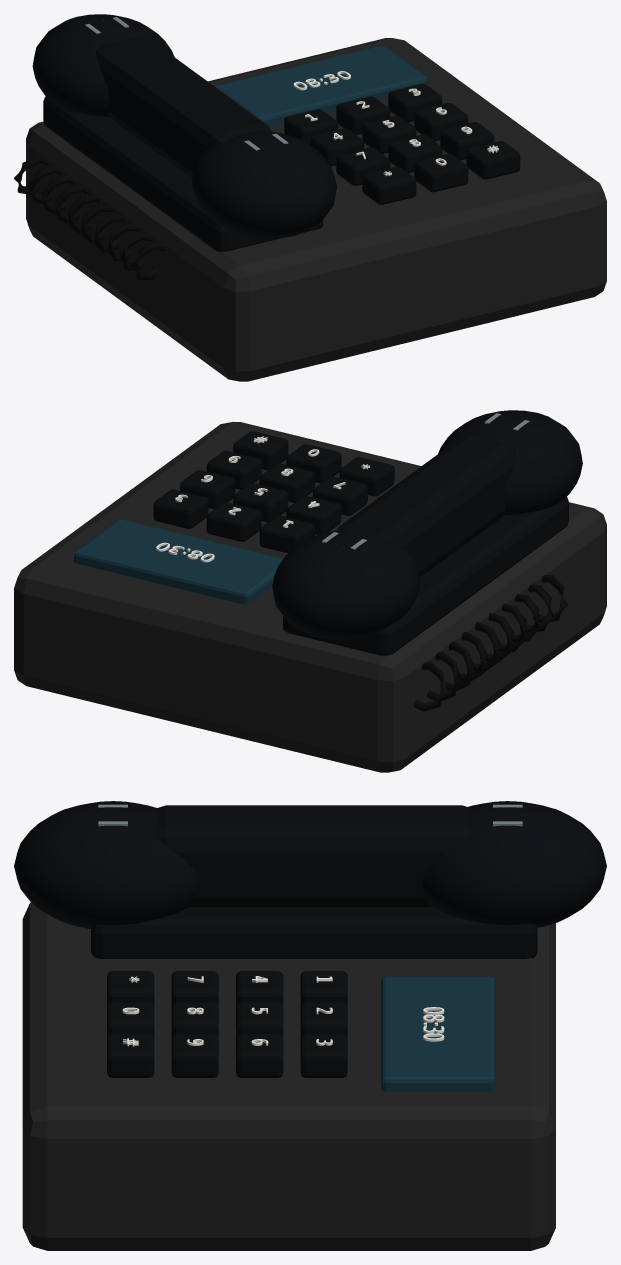
The model's file is OAA_Telepon_Meja.fbx.
3 views of the same model, one above another, from view 1: azimuth 30°, elevation 25°; view 2: azimuth 150°, elevation 25°; view 3: azimuth 270°, elevation 25° (orthographic). The views are drawn at different scales.
Parts seen in each view (by area): view 1: Body, Phone_Handset_Removable_Mesh; view 2: Body, Phone_Handset_Removable_Mesh; view 3: Body, Phone_Handset_Removable_Mesh.
Part boxes in pixels (x1,y1,x2,y2): Body: (14, 38, 606, 381); Phone_Handset_Removable_Mesh: (32, 14, 336, 238); Body: (14, 421, 606, 772); Phone_Handset_Removable_Mesh: (272, 410, 582, 639); Body: (22, 902, 555, 1250); Phone_Handset_Removable_Mesh: (14, 801, 606, 928).
Size of the model in its own units: 0.236 by 0.115 by 0.239.
